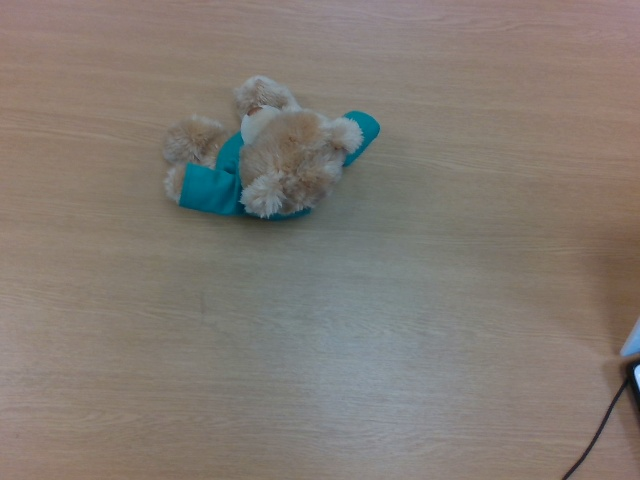teddy: (161, 74, 380, 222)
